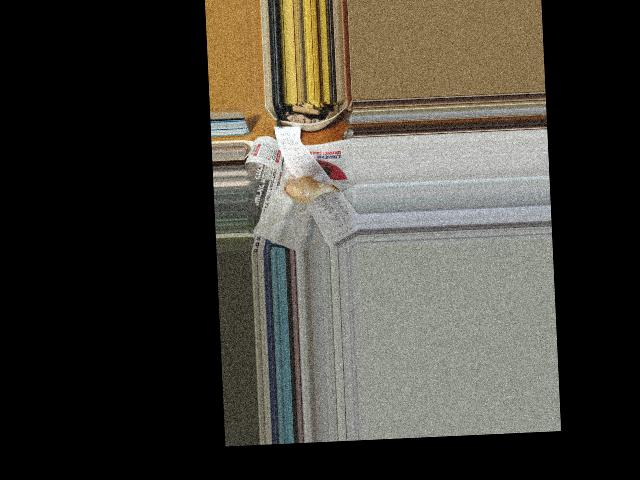onion: (285, 175, 321, 200)
